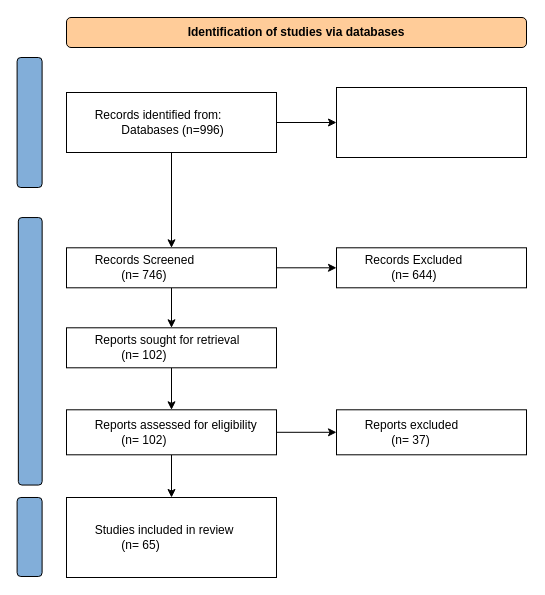
This 545x595 diagram has some shape labels left out. Here are the shapes that lost their labels. From the top down, the box of each, then its label:
(16, 56, 42, 188): Identification
(336, 86, 526, 158): Records removed before screening : Duplicate records removed (n= 250)
(17, 216, 42, 485): Screening
(16, 496, 42, 576): Included
